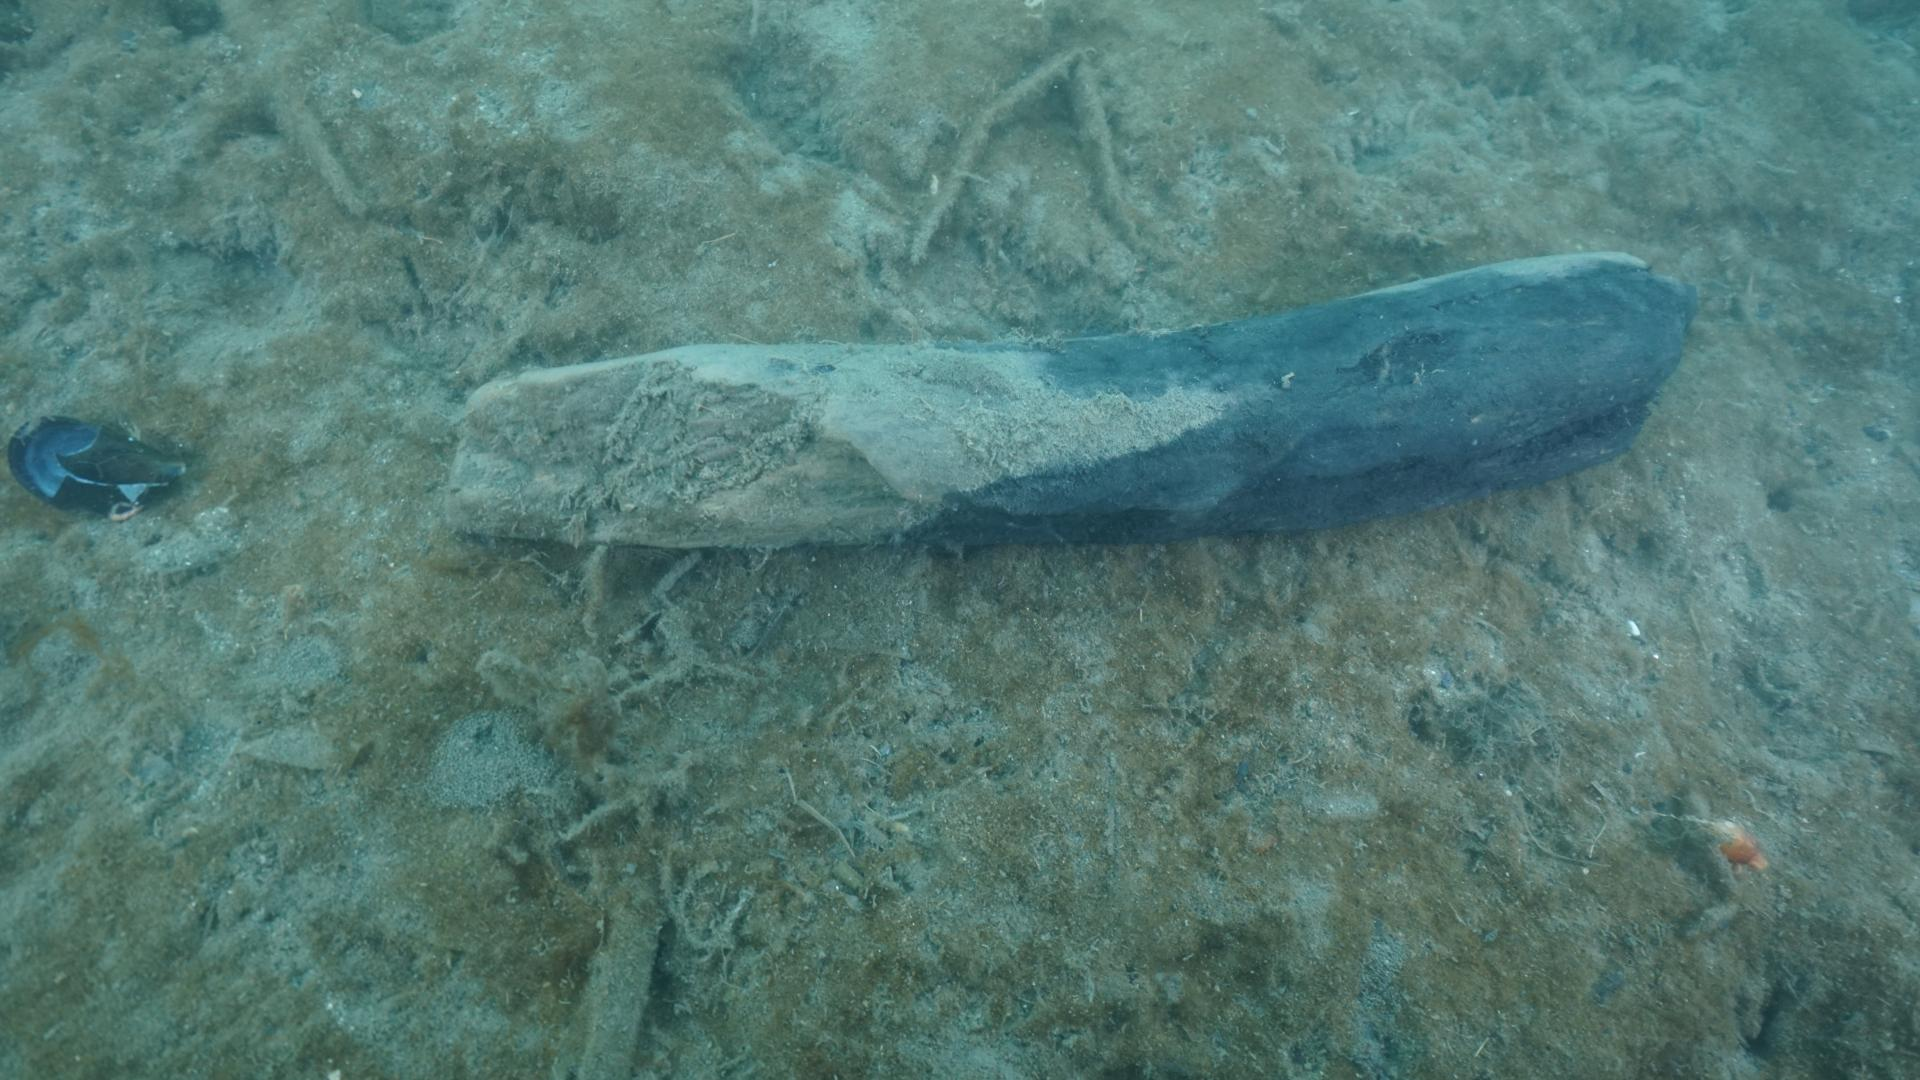wood: (438, 243, 1696, 560)
